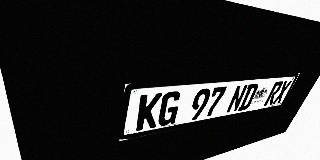7: (203, 86, 227, 118)
9: (187, 88, 213, 121)
D: (237, 83, 260, 111)
G: (156, 91, 183, 127)
K: (135, 93, 163, 131)
N: (225, 84, 248, 113)
R: (263, 81, 284, 106)
X: (272, 80, 292, 104)
